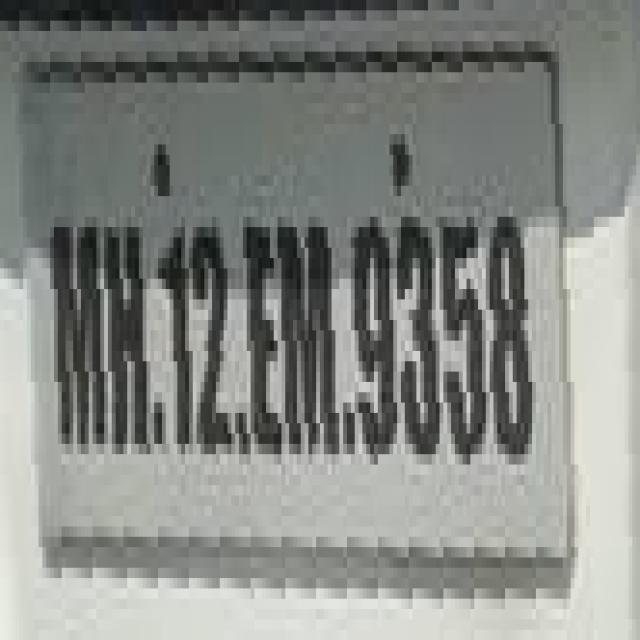license_plate: (23, 41, 567, 526)
